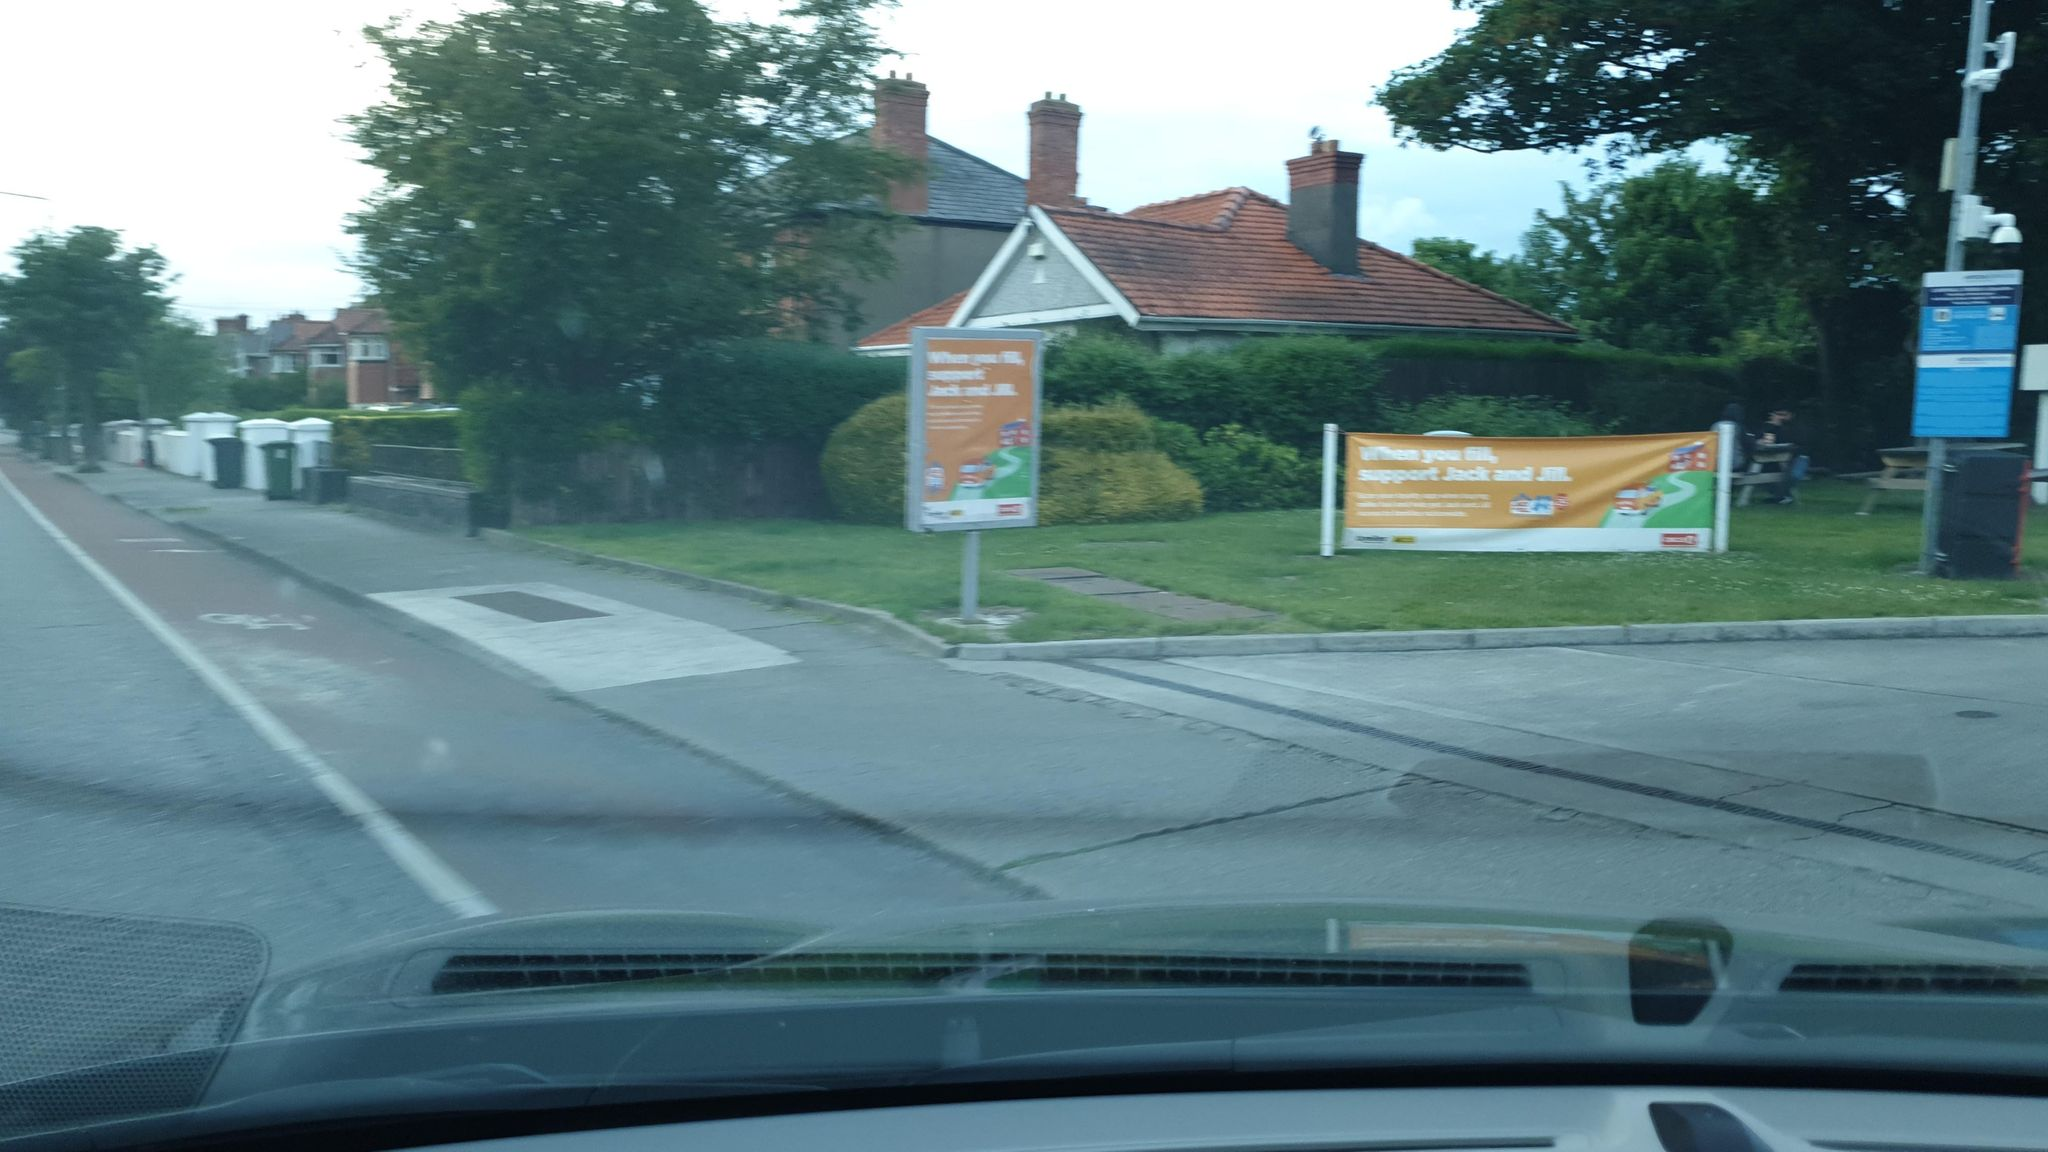vinyl banner: (1335, 418, 1733, 567)
